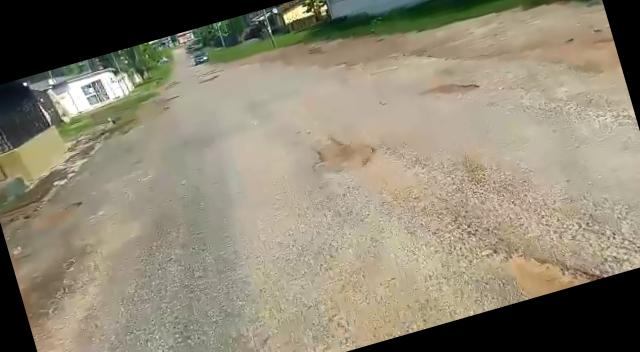pothole: (311, 128, 385, 179), (424, 73, 485, 106)
